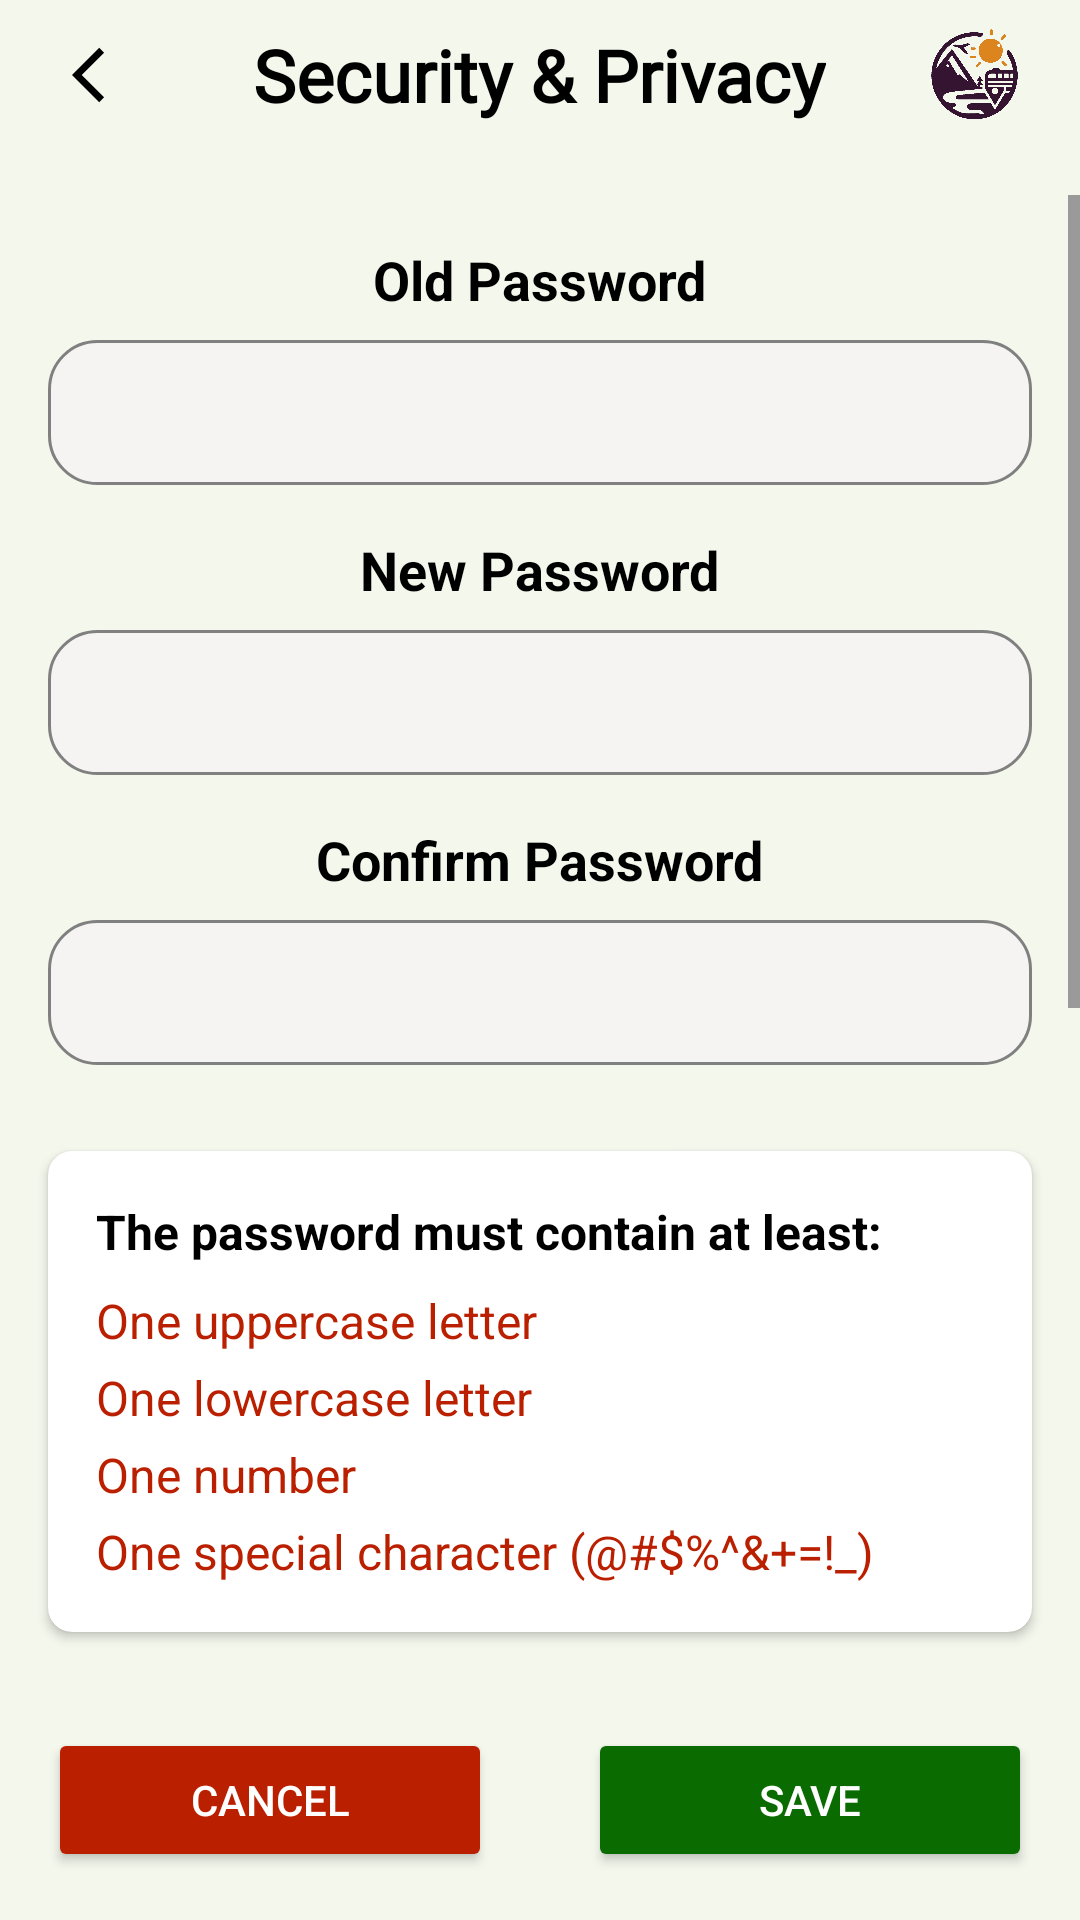

Icons on this 1080*1920 Android screen, each with the point to tap as (x,y):
backward: (88,75)
